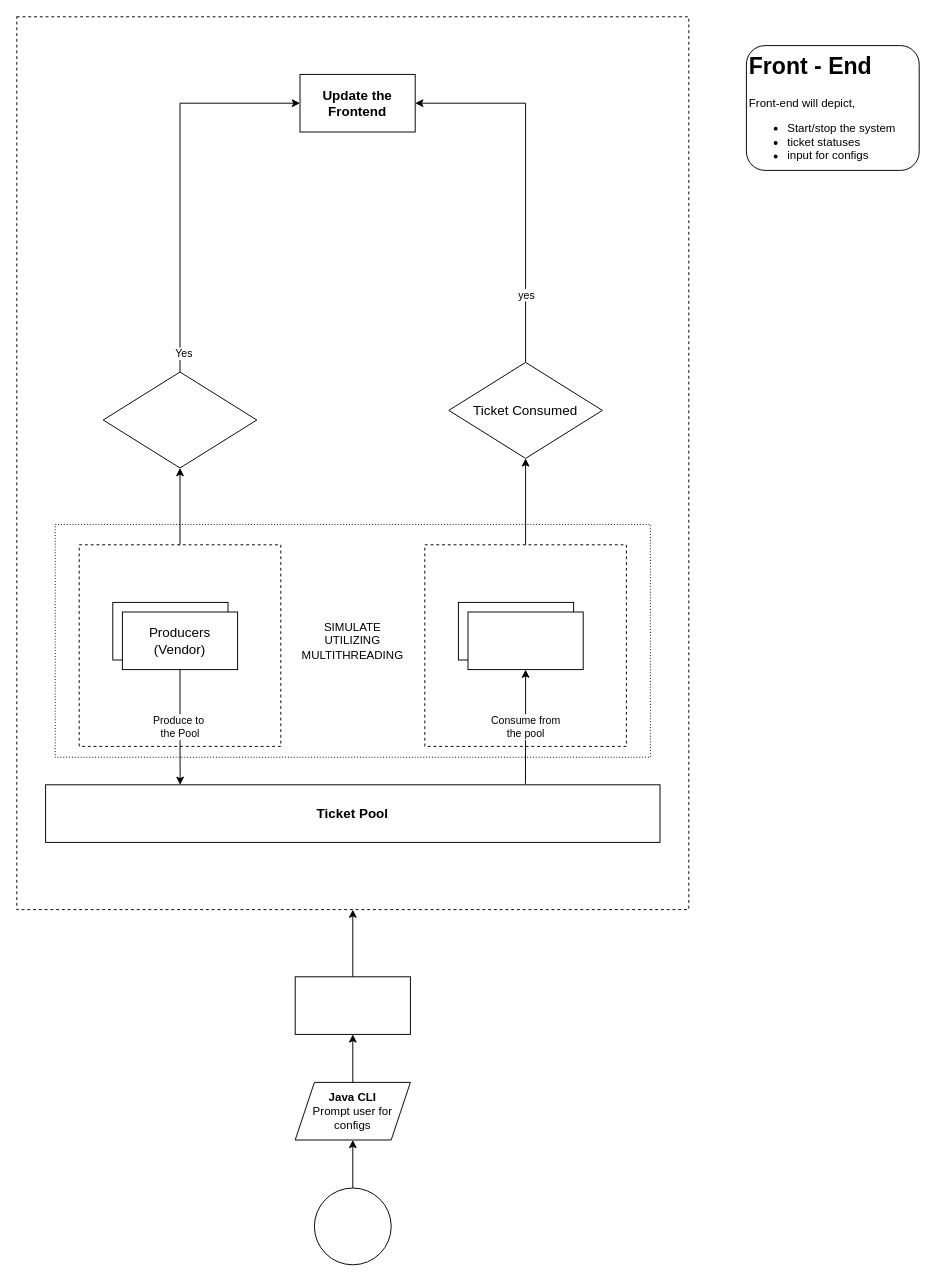
Some shapes in this 936 by 1282 pixel diagram are drawn without their labels. Each missing label, with the box of its shape:
Consumers (customer): (467, 611, 583, 670)
Save configuration data to use: (294, 976, 410, 1034)
Start: (313, 1187, 391, 1265)
Ticket produced: (102, 371, 257, 468)
